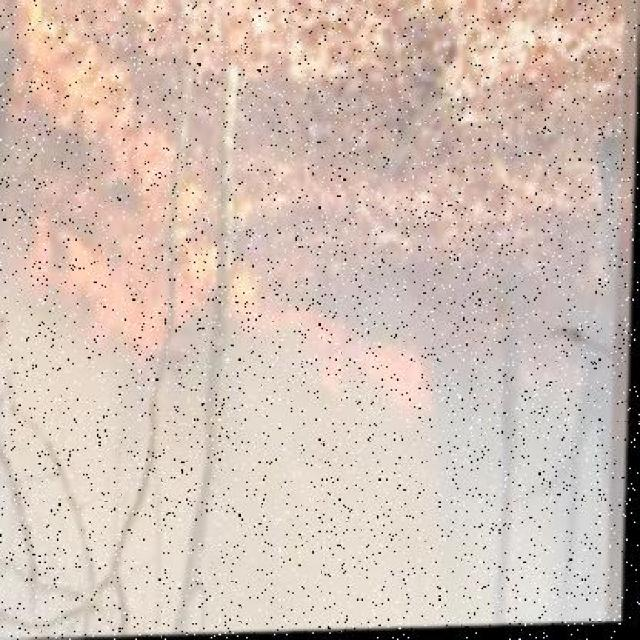fire: (41, 80, 307, 336), (305, 340, 454, 414)
